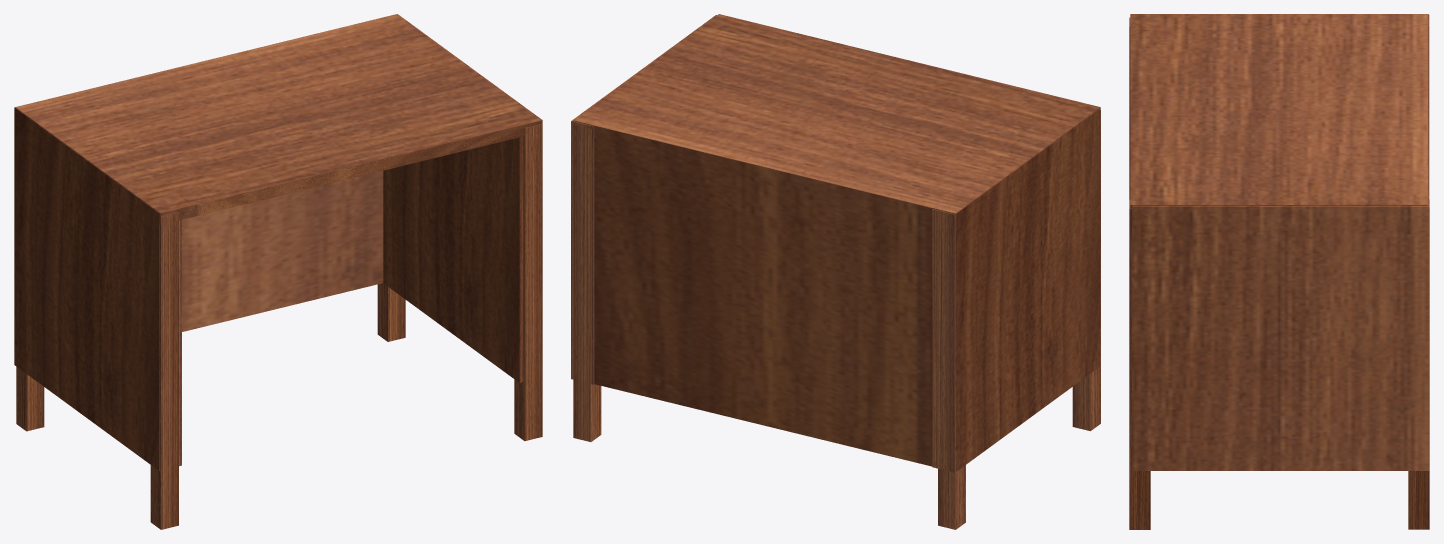
The model's file is meja.fbx.
The picture shows the model from 3 angles, left to right: view 1: azimuth 30°, elevation 25°; view 2: azimuth 150°, elevation 25°; view 3: azimuth 270°, elevation 25°; orthographic projection. The views are drawn at different scales.
Visible parts, largest first — view 1: Cube.073, Cube.068, Cube.005, Cube.067, Cube.070, Cube.071, Cube.002, Cube.072; view 2: Cube.067, Cube.073, Cube.068, Cube.072, Cube.005, Cube.071, Cube.002; view 3: Cube.005, Cube.073, Cube.070, Cube.072, Cube.071, Cube.068.
Boxes of the visible parts, x1,y1,x2,y2 form: Cube.073: (16,14,541,224); Cube.068: (14,107,181,470); Cube.005: (383,14,542,382); Cube.067: (15,14,395,331); Cube.070: (514,123,542,440); Cube.071: (150,212,178,529); Cube.002: (16,366,44,431); Cube.072: (377,283,405,341); Cube.067: (573,120,962,466); Cube.073: (574,14,1100,213); Cube.068: (932,108,1100,472); Cube.072: (573,124,601,441); Cube.005: (571,15,716,384); Cube.071: (1072,110,1100,431); Cube.002: (938,465,965,529); Cube.005: (1132,195,1429,470); Cube.073: (1130,14,1427,208); Cube.070: (1129,199,1150,529); Cube.072: (1408,199,1429,529); Cube.071: (1129,17,1130,199); Cube.068: (1428,15,1429,194).
Bounding box in the file's own units: 2298 × 1812 × 1518.
